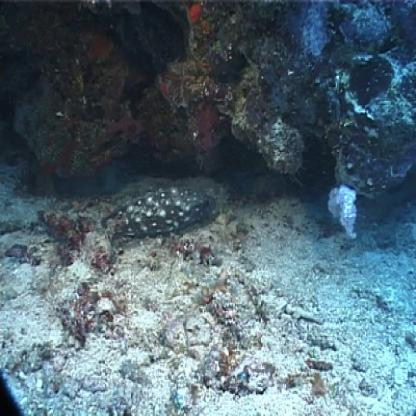Serranidae -Groupers-: (100, 182, 221, 261)
